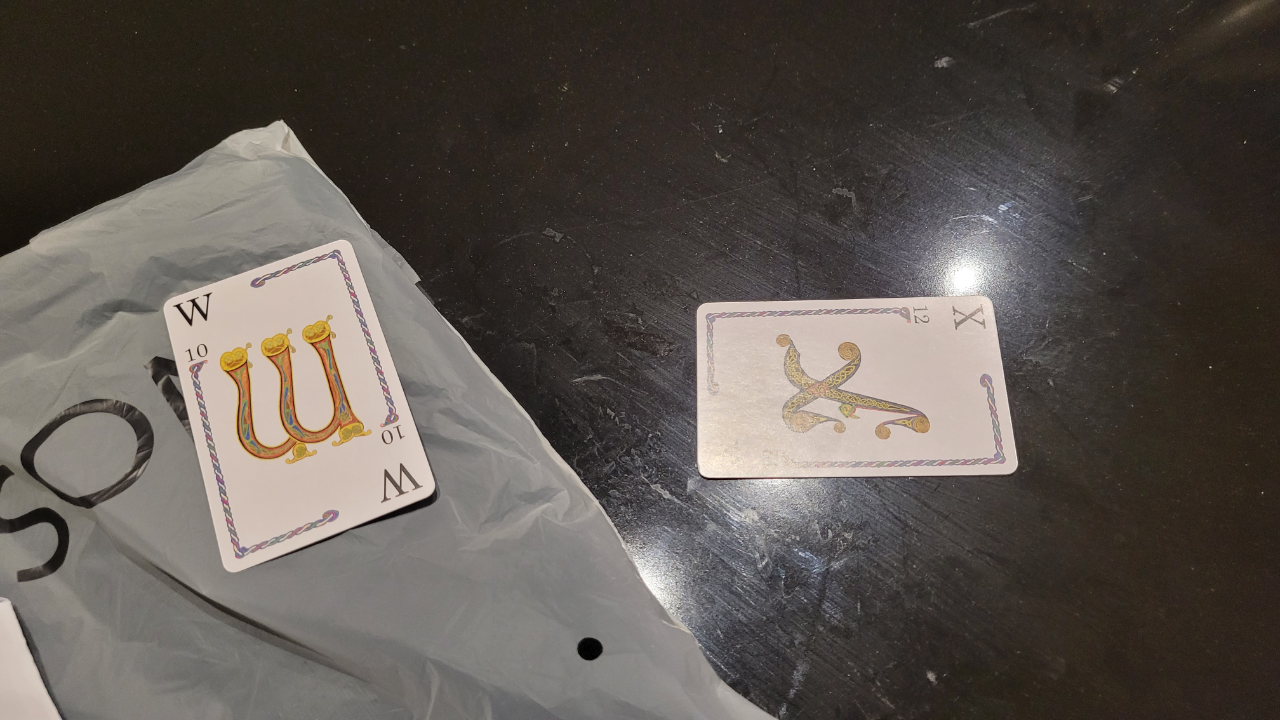quiddler_card: (153, 233, 448, 581), (684, 284, 1040, 501)
